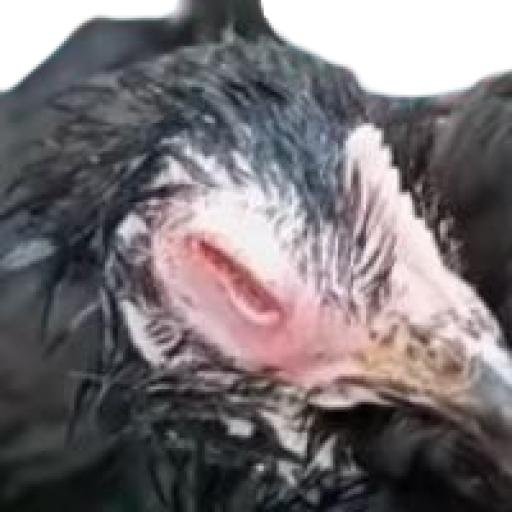disease: (161, 188, 310, 350)
